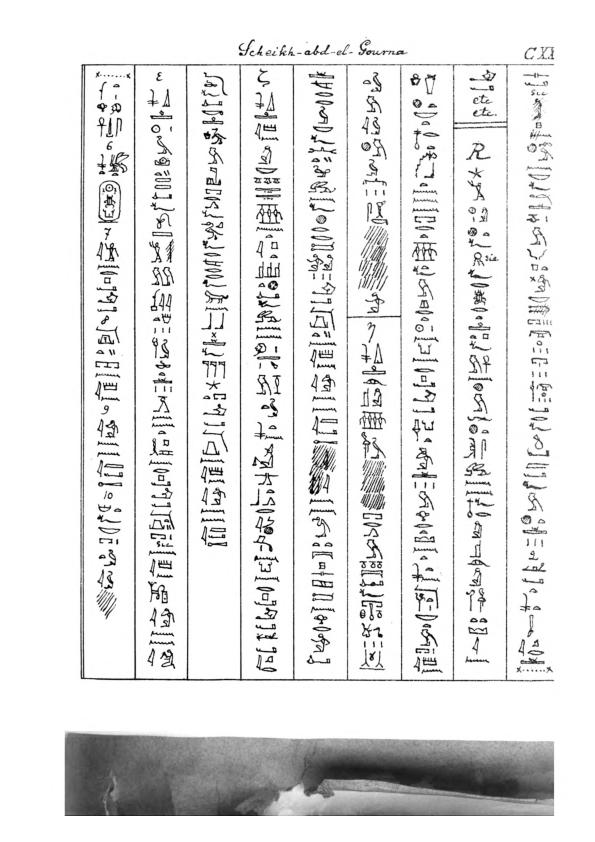circle: (94, 180, 122, 225)
